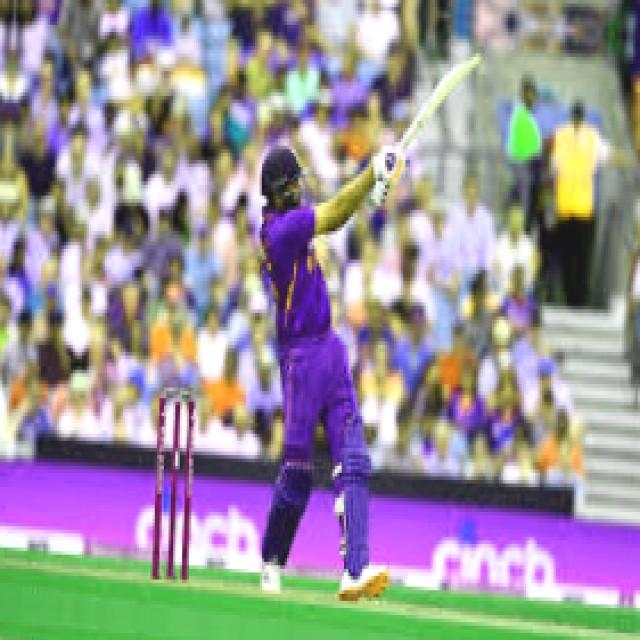toe: (462, 48, 488, 80)
